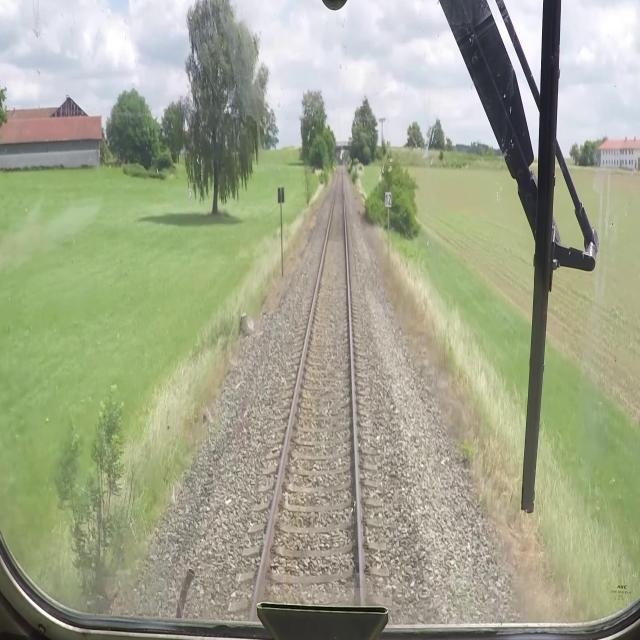rail-track: (258, 162, 359, 596)
